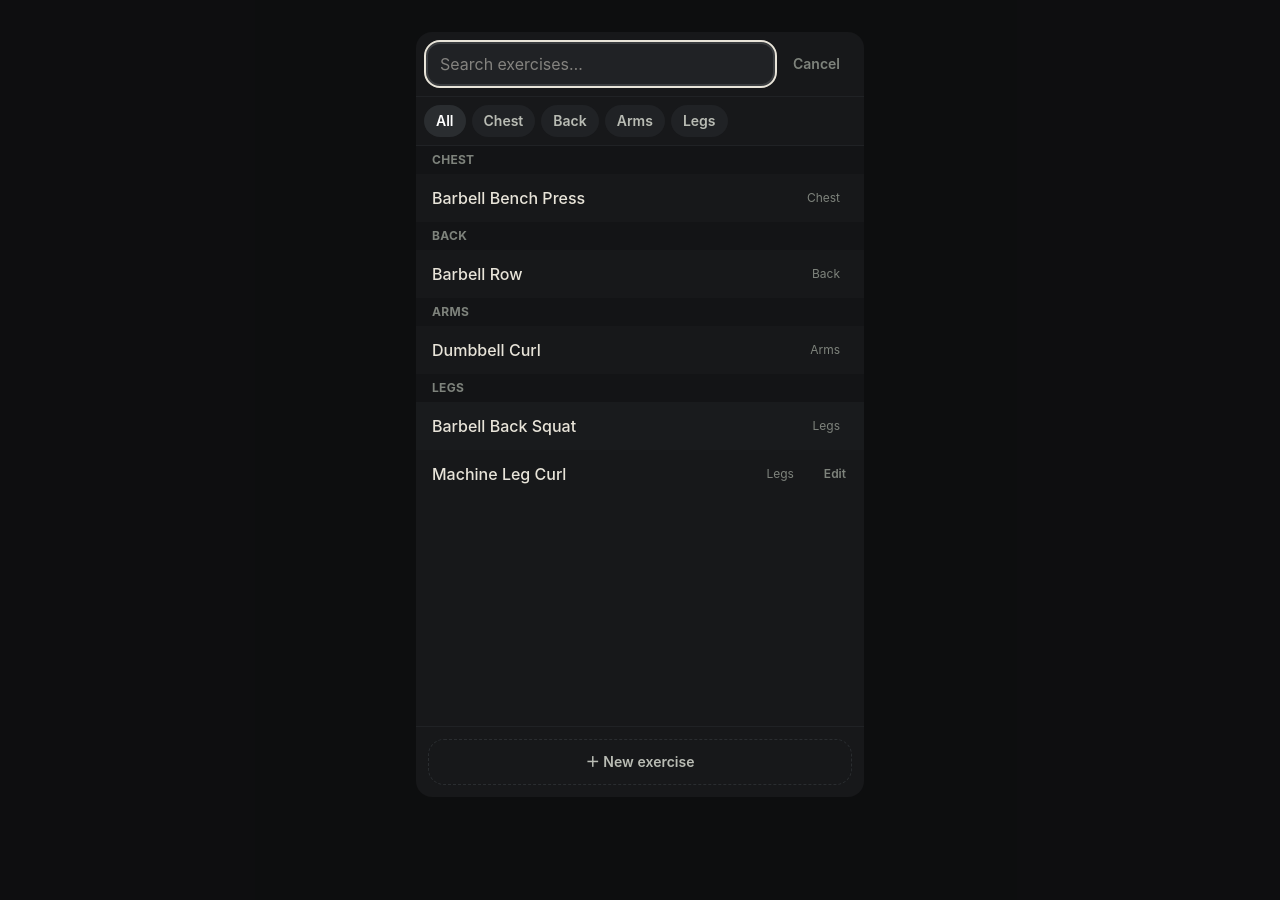
Scenario: ExercisePicker › filters to a muscle group via chips
Click the button "Legs": (699, 121) [671, 105, 728, 137]
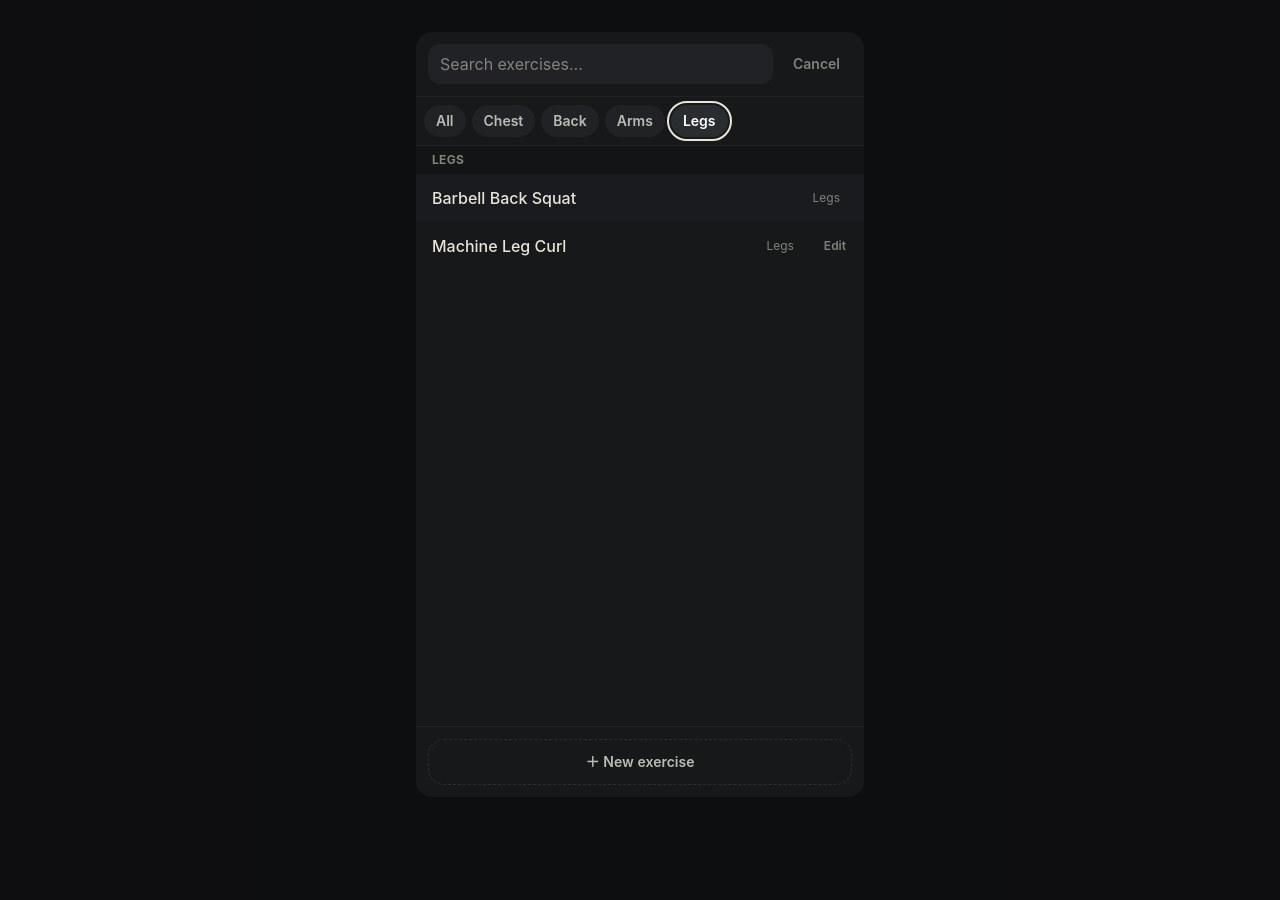
Expected: the text "Barbell Back Squat" is shown, [432, 186, 576, 210]
Expected: the button "Barbell Bench Press" is gone
